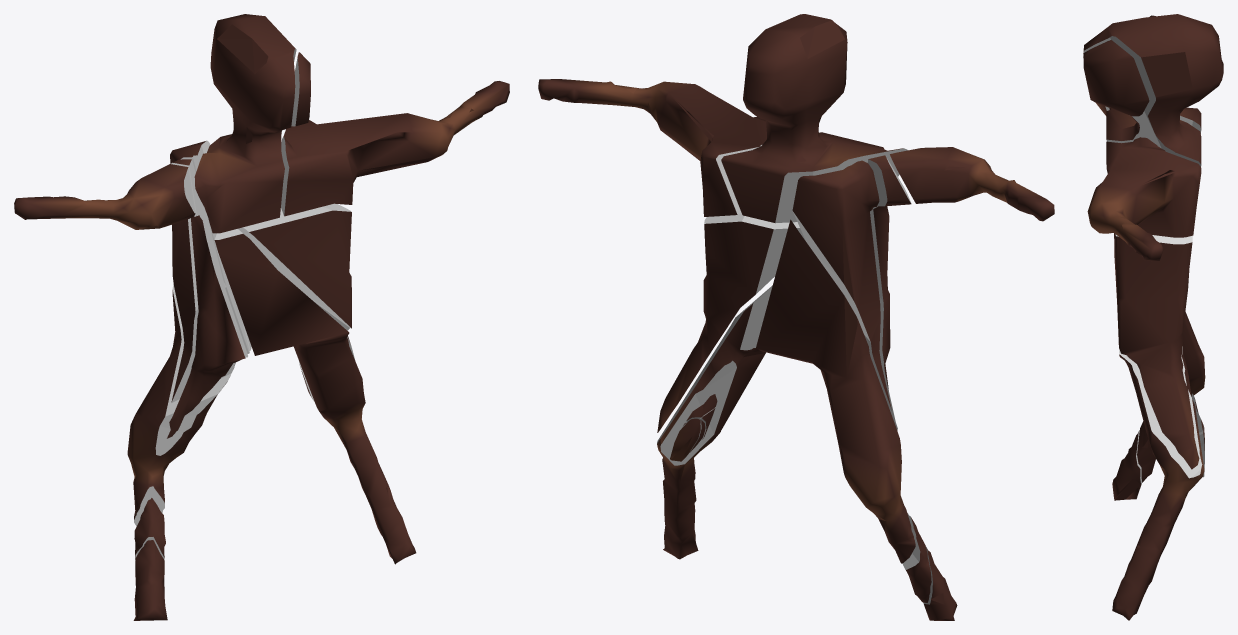
Rendered from Robots and Humanoids(3).glb.
The picture shows the model from 3 angles, left to right: view 1: azimuth 30°, elevation 25°; view 2: azimuth 150°, elevation 25°; view 3: azimuth 270°, elevation 25°; orthographic projection. The views are drawn at different scales.
Parts seen in each view (by area): view 1: Root.005, Root.001, Root.008, Root.013, Root.004, Root.003, Root.012, Root.011, Root, Root.007, Root.009; view 2: Root.003, Root.001, Root.008, Root.011, Root.005, Root.013, Root.012, Root.004, Root.007, Root, Root.002; view 3: Root.013, Root.001, Root.008, Root.005, Root.009, Root, Root.003, Root.007, Root.011.
Part boxes in pixels (x1,y1,x2,y2): Root.005: (214,229,416,564); Root.001: (194,14,296,233); Root.008: (281,81,509,216); Root.013: (237,203,355,360); Root.004: (167,159,247,438); Root.003: (127,284,251,526); Root.012: (14,164,195,229); Root.011: (170,140,249,402); Root: (133,540,167,620); Root.007: (134,498,165,560); Root.009: (291,52,310,126); Root.003: (756,219,915,563); Root.001: (721,14,907,223); Root.008: (538,79,766,216); Root.011: (792,160,891,410); Root.005: (657,285,772,559); Root.013: (657,213,805,432); Root.012: (890,147,1054,221); Root.004: (867,155,911,430); Root.007: (902,513,931,602); Root: (923,547,957,620); Root.002: (670,418,700,461); Root.013: (1114,233,1199,469); Root.001: (1083,14,1223,166); Root.008: (1087,137,1201,261); Root.005: (1112,233,1204,620); Root.009: (1083,40,1149,116); Root: (1112,430,1142,500); Root.003: (1183,311,1205,395); Root.007: (1137,421,1155,482); Root.011: (1180,107,1201,133).
Bounding box in the file's own units: 3.37 × 3.6 × 0.8507.
